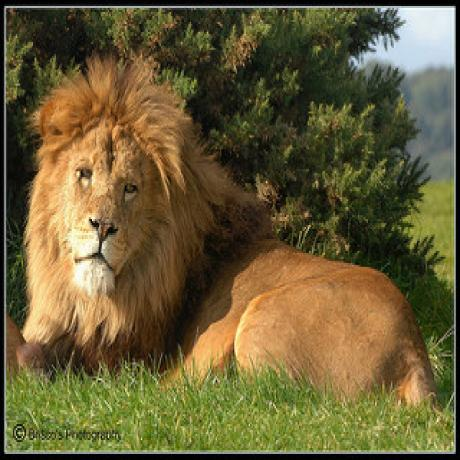Lion: (21, 56, 435, 408)
